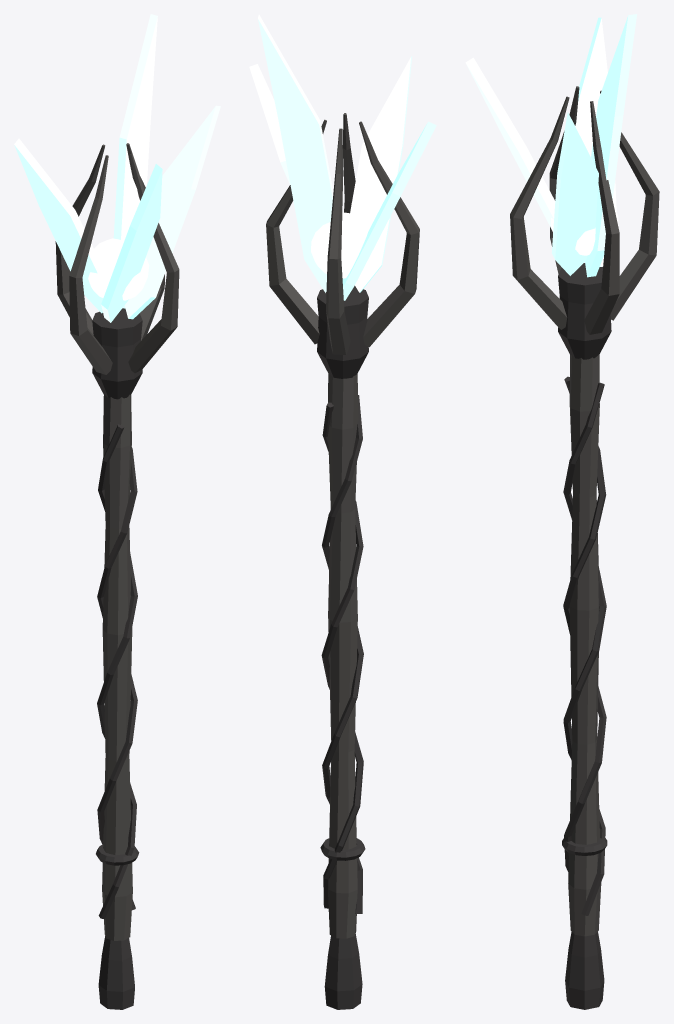
File: staff_ashflame.glb
The picture shows the model from 3 angles, left to right: view 1: azimuth 30°, elevation 25°; view 2: azimuth 150°, elevation 25°; view 3: azimuth 270°, elevation 25°; orthographic projection. The views are drawn at different scales.
Parts seen in each view (by area): view 1: Af_Shaft, Af_Flame3, Af_Flame0, Af_Flame1, Af_Flame2, Af_Neck, Af_Tendril2, Af_Tendril3, Af_Vine1, Af_Vine0, Af_Butt, Af_Core (+3 smaller); view 2: Af_Shaft, Af_Flame0, Af_Flame2, Af_Tendril2, Af_Tendril1, Af_Neck, Af_Vine0, Af_Vine1, Af_Tendril0, Af_Butt, Af_Flame1, Af_Core (+3 smaller); view 3: Af_Shaft, Af_Flame3, Af_Flame0, Af_Tendril3, Af_Tendril0, Af_Neck, Af_Vine0, Af_Tendril1, Af_Vine1, Af_Butt, Af_Flame2, Af_Flame1 (+3 smaller).
Boxes of the visible parts, bbox=[...] form: Af_Shaft: bbox=[102, 394, 132, 940]; Af_Flame3: bbox=[124, 105, 220, 319]; Af_Flame0: bbox=[113, 14, 157, 308]; Af_Flame1: bbox=[14, 138, 102, 313]; Af_Flame2: bbox=[101, 164, 162, 322]; Af_Neck: bbox=[92, 308, 142, 399]; Af_Tendril2: bbox=[69, 155, 112, 374]; Af_Tendril3: bbox=[128, 153, 179, 373]; Af_Vine1: bbox=[97, 424, 137, 919]; Af_Vine0: bbox=[97, 447, 137, 910]; Af_Butt: bbox=[98, 936, 134, 1009]; Af_Core: bbox=[88, 238, 149, 300]; Af_Shaft: bbox=[328, 374, 358, 938]; Af_Flame0: bbox=[258, 14, 333, 292]; Af_Flame2: bbox=[350, 56, 412, 292]; Af_Tendril2: bbox=[359, 121, 419, 347]; Af_Tendril1: bbox=[326, 128, 350, 354]; Af_Neck: bbox=[317, 286, 368, 378]; Af_Vine0: bbox=[321, 402, 363, 908]; Af_Vine1: bbox=[322, 395, 363, 913]; Af_Tendril0: bbox=[266, 119, 326, 344]; Af_Butt: bbox=[324, 934, 362, 1009]; Af_Flame1: bbox=[343, 121, 436, 300]; Af_Core: bbox=[311, 212, 375, 278]; Af_Shaft: bbox=[568, 354, 601, 936]; Af_Flame3: bbox=[552, 112, 598, 275]; Af_Flame0: bbox=[585, 14, 636, 277]; Af_Tendril3: bbox=[510, 96, 569, 329]; Af_Tendril0: bbox=[584, 101, 619, 334]; Af_Neck: bbox=[558, 263, 611, 359]; Af_Vine0: bbox=[563, 382, 606, 915]; Af_Tendril1: bbox=[600, 90, 659, 320]; Af_Vine1: bbox=[563, 376, 606, 871]; Af_Butt: bbox=[565, 931, 604, 1009]; Af_Flame2: bbox=[465, 57, 555, 229]; Af_Flame1: bbox=[575, 17, 616, 266].
Size of the model in its own units: 0.5436 by 2.56 by 0.4422.
